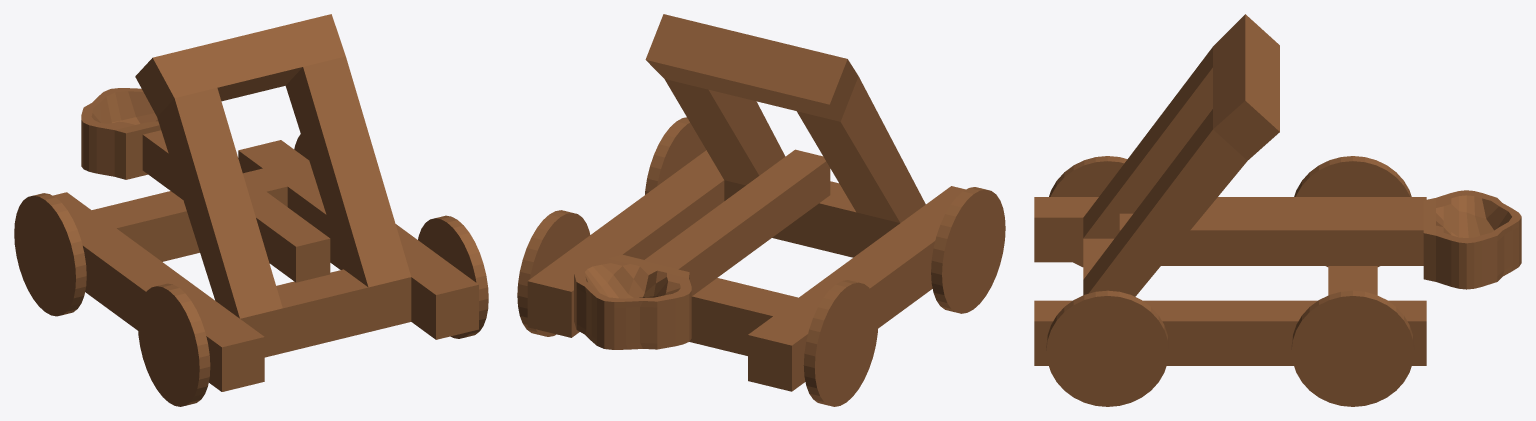
File: Catapult.fbx
The picture shows the model from 3 angles, left to right: view 1: azimuth 30°, elevation 25°; view 2: azimuth 150°, elevation 25°; view 3: azimuth 270°, elevation 25°; orthographic projection. The views are drawn at different scales.
Parts seen in each view (by area): view 1: Body, Arm, Wheel4, Wheel3, Wheel1; view 2: Body, Arm, Wheel3, Wheel4, Wheel2, Wheel1; view 3: Body, Arm, Wheel2, Wheel1, Wheel4, Wheel3.
Boxes of the visible parts, box(x1,y1,x2,y2) form: Body: box(53, 14, 478, 391); Arm: box(81, 88, 330, 282); Wheel4: box(14, 193, 86, 316); Wheel3: box(138, 283, 210, 406); Wheel1: box(418, 215, 488, 338); Body: box(527, 14, 965, 391); Arm: box(574, 149, 830, 349); Wheel3: box(931, 187, 1005, 313); Wheel4: box(803, 280, 878, 406); Wheel2: box(517, 210, 589, 336); Wheel1: box(645, 117, 705, 194); Body: box(1034, 14, 1426, 365); Arm: box(1119, 190, 1521, 289); Wheel2: box(1291, 290, 1414, 406); Wheel1: box(1046, 290, 1168, 406); Wheel4: box(1294, 156, 1411, 266); Wheel3: box(1049, 156, 1127, 267).
Size of the model in its own units: 270 by 251 by 398.
